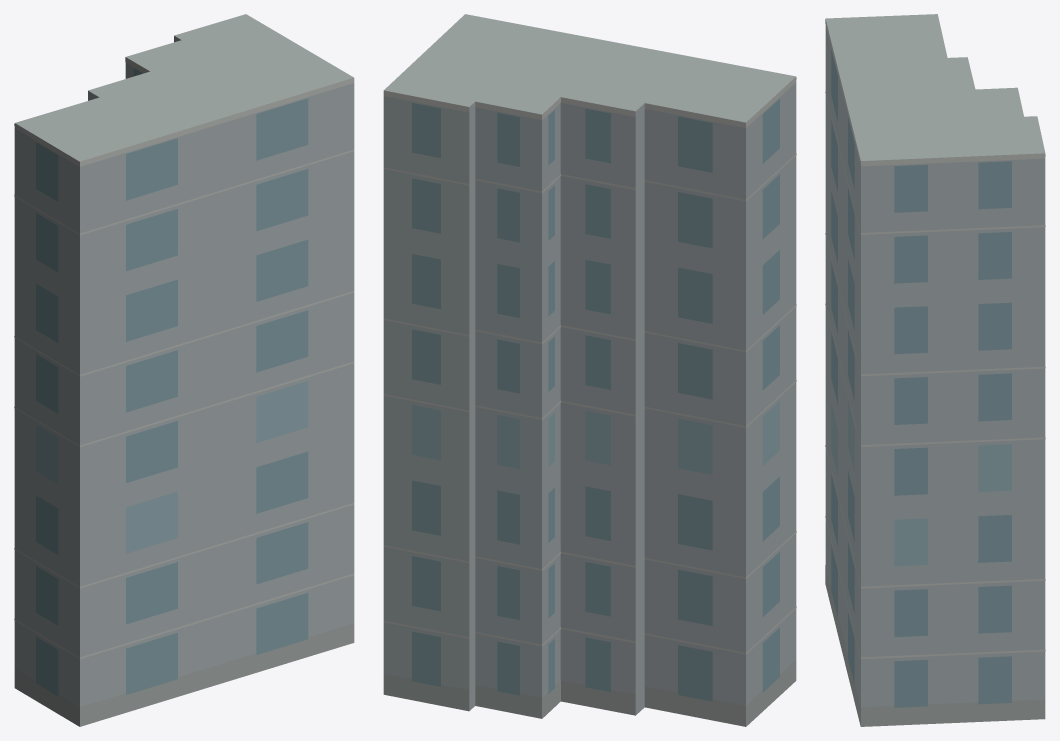
The model's file is survey-upis-32529381.glb.
The picture shows the model from 3 angles, left to right: view 1: azimuth 30°, elevation 25°; view 2: azimuth 150°, elevation 25°; view 3: azimuth 270°, elevation 25°; orthographic projection. The views are drawn at different scales.
Parts seen in each view (by area): view 1: survey-upis-32529381.tmp; view 2: survey-upis-32529381.tmp; view 3: survey-upis-32529381.tmp.
Boxes of the visible parts, x1,y1,x2,y2 form: survey-upis-32529381.tmp: (14,14,354,726); survey-upis-32529381.tmp: (383,14,796,726); survey-upis-32529381.tmp: (825,14,1045,726).
Size of the model in its own units: 14.58 by 26.1 by 9.22.
